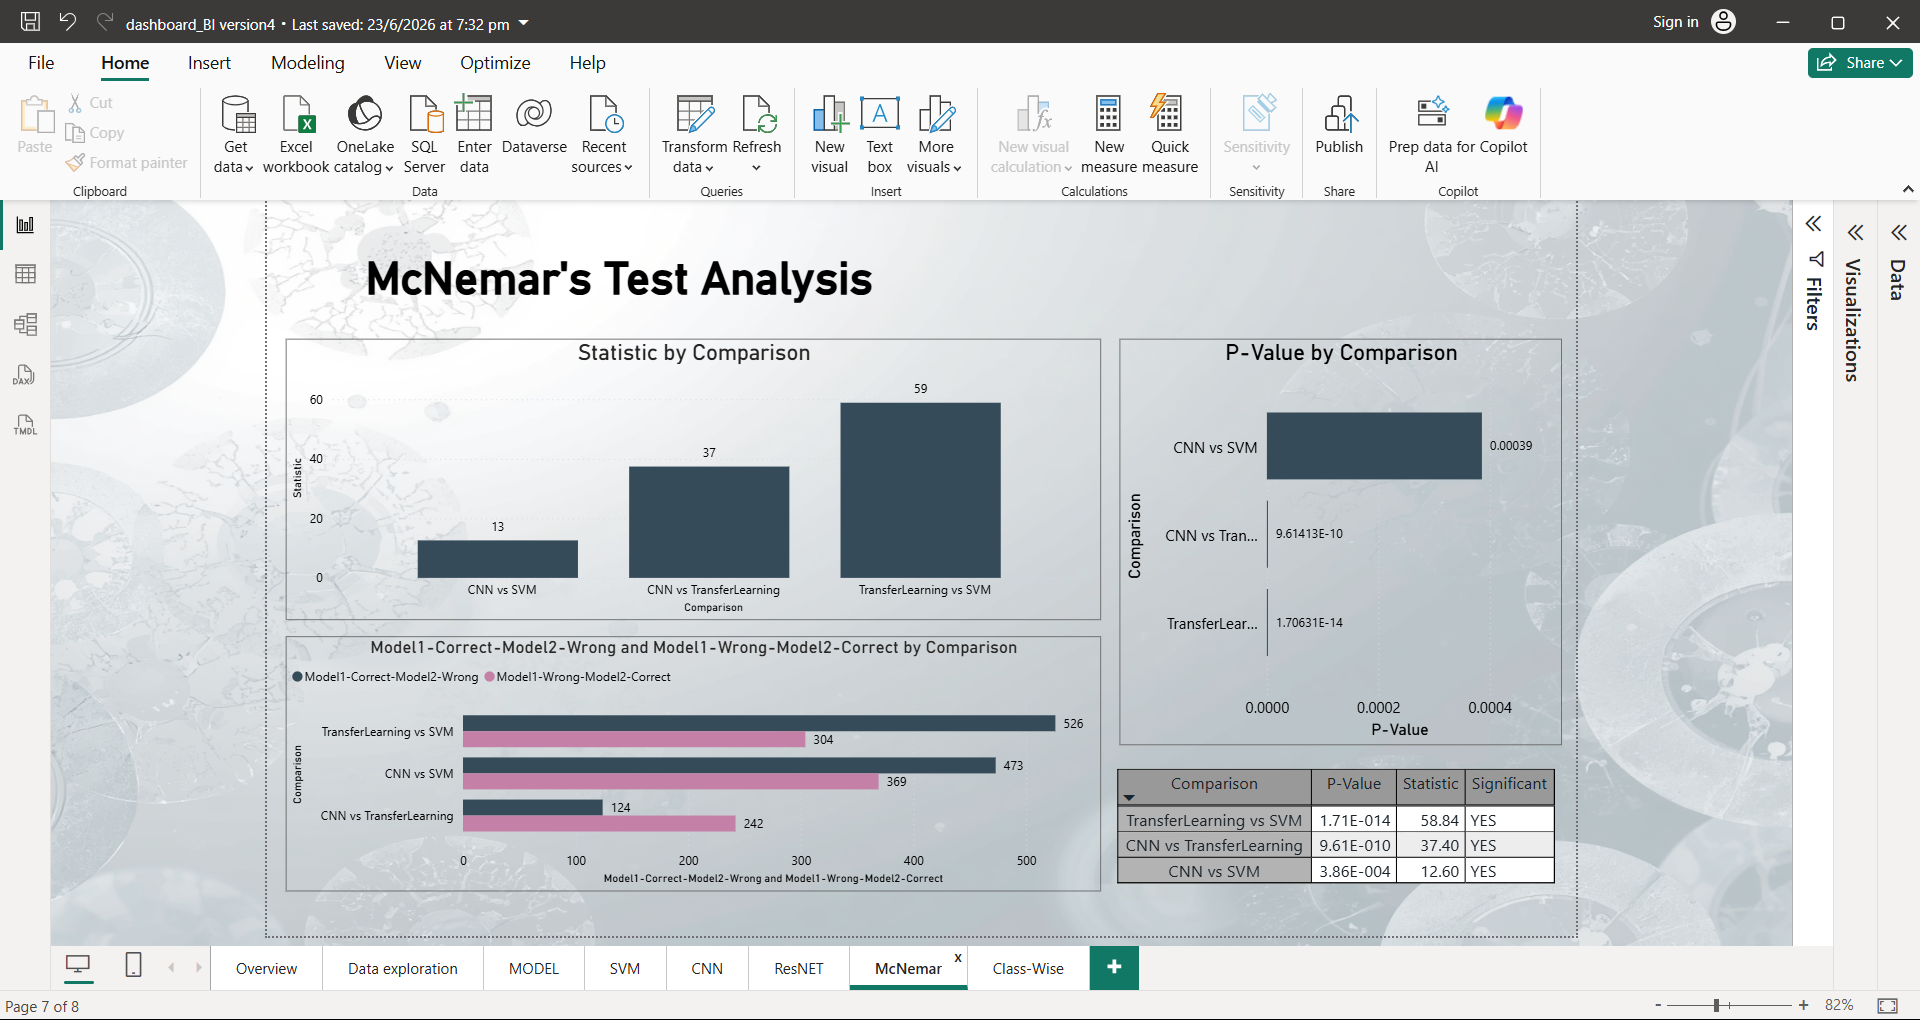

The page's visual inventory and layout, read from the dashboard file:
{"tool":"powerbi","page":{"name":"McNemar","canvas":[1280,720],"ordinal":7},"visuals":[{"type":"clusteredBarChart","fields":{"Category":["MCNemar_result.Comparison"],"Y":["Sum(MCNemar_result.P_Value)"]},"box":[834,135.7,432.9,397.4],"z":0},{"type":"clusteredBarChart","fields":{"Category":["MCNemar_Comparison.Comparison"],"Y":["Sum(MCNemar_Comparison.Model1_Correct_Model2_Wrong)","Sum(MCNemar_Comparison.Model1_Wrong_Model2_Correct)"]},"box":[18.3,426.8,797.3,249.5],"z":1000},{"type":"clusteredColumnChart","fields":{"Category":["MCNemar_Comparison.Comparison"],"Y":["Sum(MCNemar_Comparison.Statistic)"]},"box":[18.3,135.7,797.3,275.1],"z":2000},{"type":"tableEx","fields":{"Values":["MCNemar_Comparison.Comparison","Sum(MCNemar_Comparison.P_Value)","Sum(MCNemar_Comparison.Statistic)","MCNemar_Comparison.Statistically_Significant"]},"box":[825.4,551.5,441.4,133.3],"z":3000},{"type":"textbox","title":"McNemar''s Test Analysis","box":[91.7,50.1,562.5,57.5],"z":4000}]}

Visuals, with their boxes on the page's 1280x720 design canvas (x1, y1, x2, y2). These are canvas units, not pixel positions in the 1920x1020 screenshot, which may show the page scaled, cropped or inside an application window:
clusteredBarChart - MCNemar_result.Comparison x Sum(MCNemar_result.P_Value): 834:136:1267:533
clusteredBarChart - MCNemar_Comparison.Comparison x Sum(MCNemar_Comparison.Model1_Correct_Model2_Wrong): 18:427:816:676
clusteredColumnChart - MCNemar_Comparison.Comparison x Sum(MCNemar_Comparison.Statistic): 18:136:816:411
tableEx - MCNemar_Comparison.Comparison x Sum(MCNemar_Comparison.P_Value): 825:552:1267:685
"McNemar''s Test Analysis" textbox: 92:50:654:108
